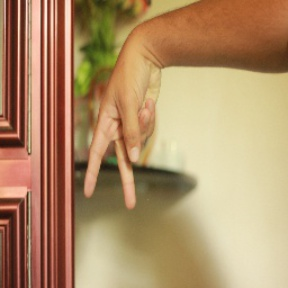Y: (81, 54, 161, 209)
